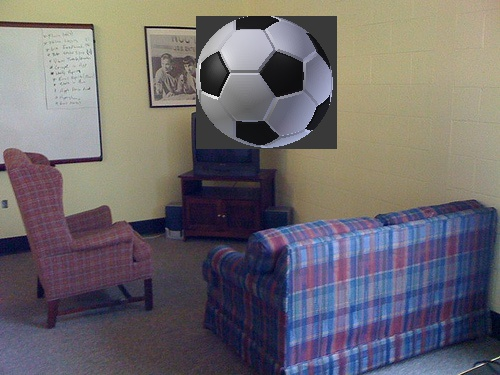ball: (196, 16, 337, 149)
